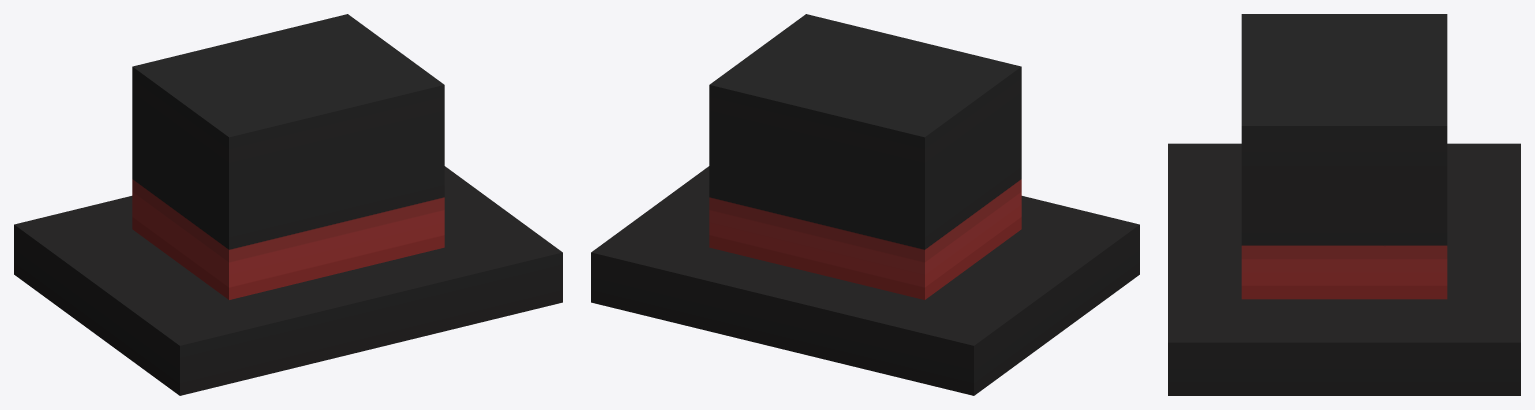
File: Accessories043.fbx
The picture shows the model from 3 angles, left to right: view 1: azimuth 30°, elevation 25°; view 2: azimuth 150°, elevation 25°; view 3: azimuth 270°, elevation 25°; orthographic projection. The views are drawn at different scales.
Visible parts, largest first — view 1: Accessories043; view 2: Accessories043; view 3: Accessories043.
Part boxes in pixels (left/top/right/bottom): Accessories043: left=14, top=14, right=562, bottom=395; Accessories043: left=591, top=14, right=1139, bottom=395; Accessories043: left=1168, top=14, right=1520, bottom=395.
Bounding box in the file's own units: 32.8 × 17.42 × 24.6.
